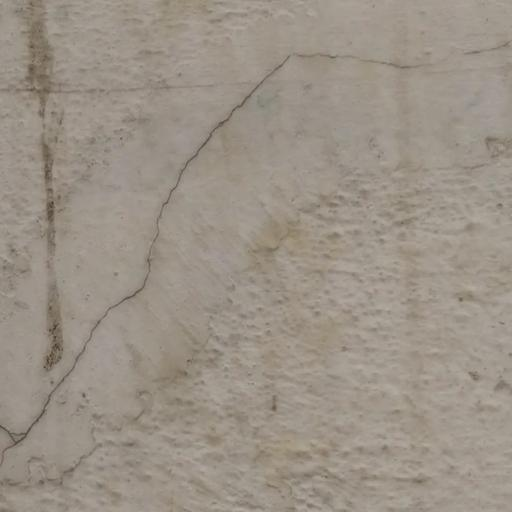minor_crack: (0, 34, 512, 461)
